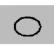no answer: (3, 10, 44, 41)
